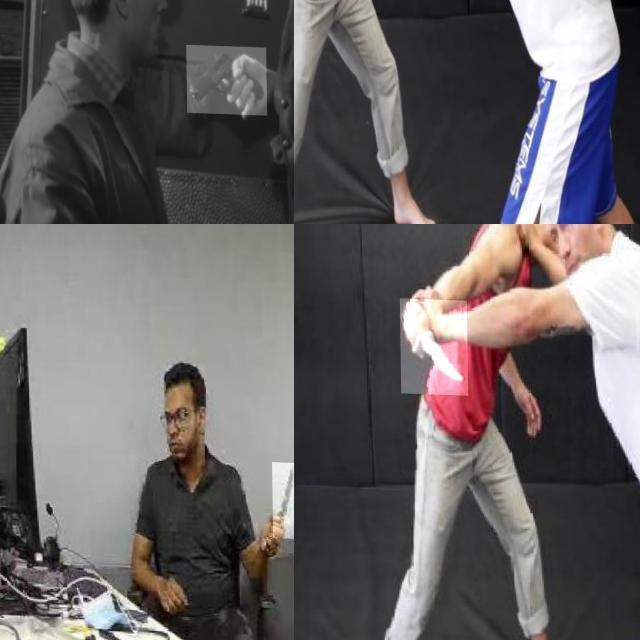-: (400, 297, 468, 394), (294, 0, 371, 47), (270, 459, 294, 536)
gun-knife-thesis - v11 Yolov5 augmented: (185, 42, 266, 112)
